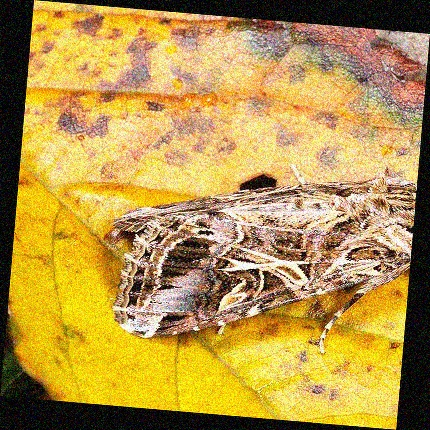Spodoptera litura: (106, 156, 410, 348)
